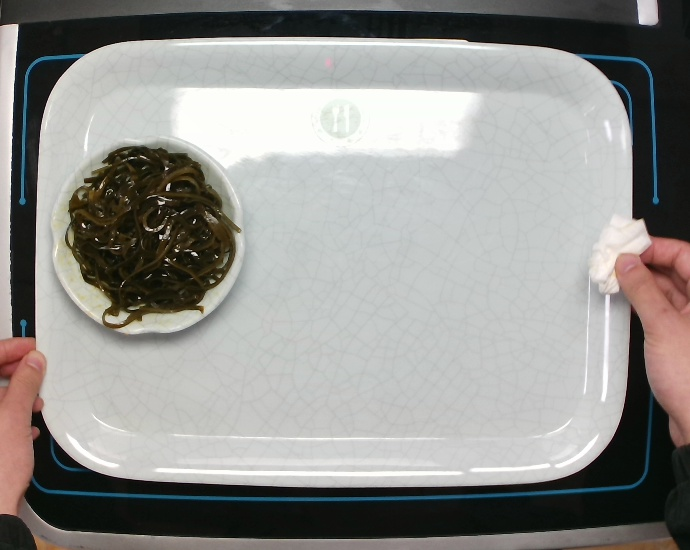JYsf-Ao_Yuan_Wan: (51, 130, 248, 341)
